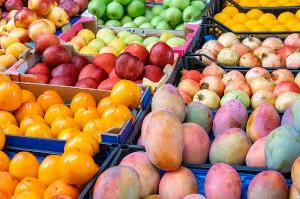apple: (23, 43, 182, 87), (0, 0, 82, 64), (66, 22, 198, 50), (84, 0, 212, 26)
mango: (100, 84, 299, 199)
orange: (220, 0, 300, 32)
plum: (0, 76, 142, 136), (0, 132, 103, 199)
pomegranate: (176, 58, 300, 110), (190, 31, 300, 69)
